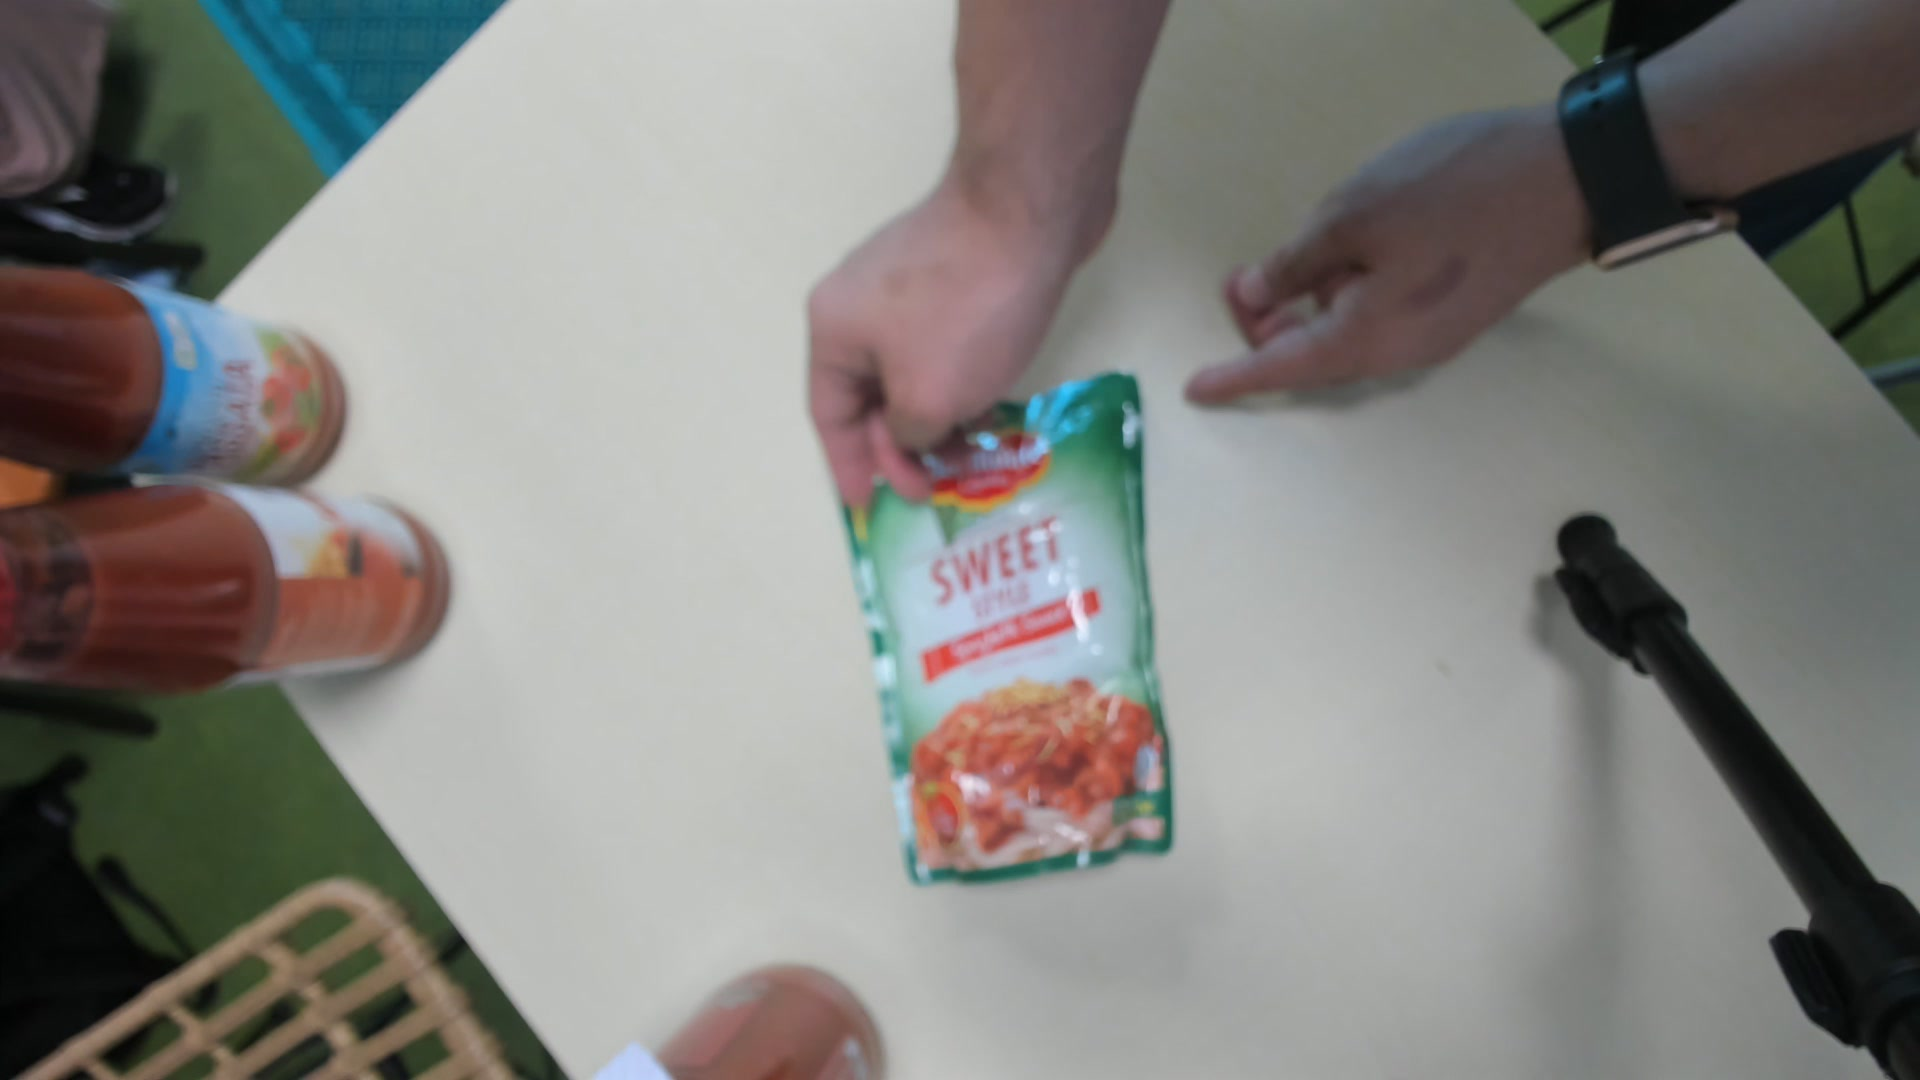PastaSauce_500-599g_Halal_NonHealthy: (853, 382, 1174, 891)
